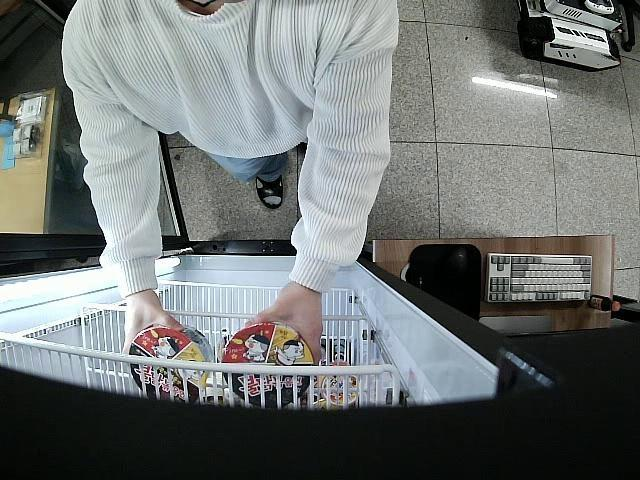07_buldak_L: (223, 320, 314, 407), (130, 324, 215, 402)
